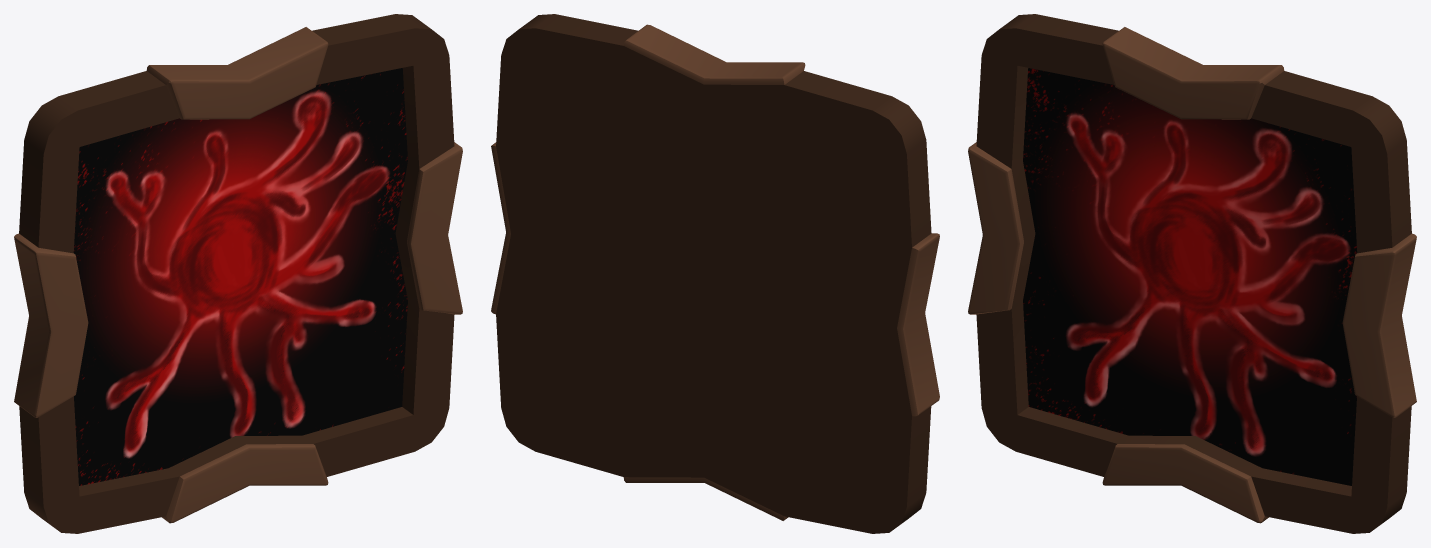
The model's file is SM_Cadre01.fbx.
The picture shows the model from 3 angles, left to right: view 1: azimuth 30°, elevation 25°; view 2: azimuth 150°, elevation 25°; view 3: azimuth 330°, elevation 25°; orthographic projection.
Parts seen in each view (by area): view 1: SM_CadreCarre; view 2: SM_CadreCarre; view 3: SM_CadreCarre.
Part boxes in pixels (left/top/right/bottom): SM_CadreCarre: left=14, top=14, right=462, bottom=533; SM_CadreCarre: left=491, top=14, right=939, bottom=533; SM_CadreCarre: left=968, top=14, right=1416, bottom=533.
Size of the model in its own units: 66.8 by 66.09 by 6.26.
3 materials, 1 textured.
